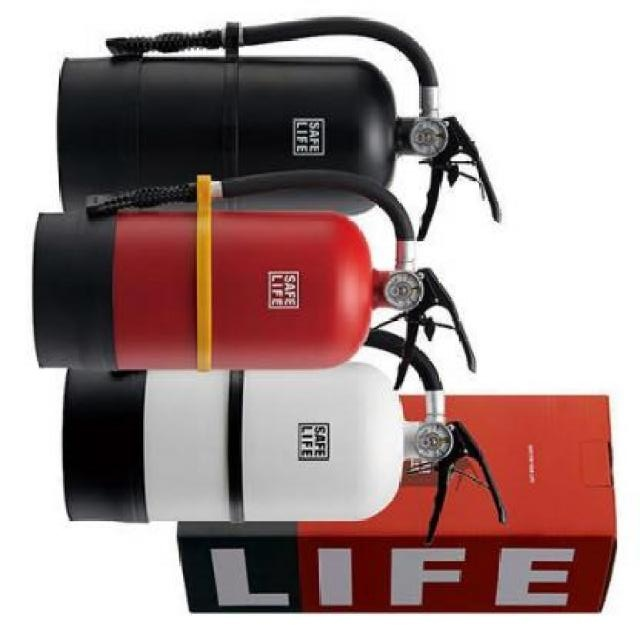fire extinguisher: (56, 16, 502, 242), (32, 169, 476, 391), (61, 327, 507, 547)
